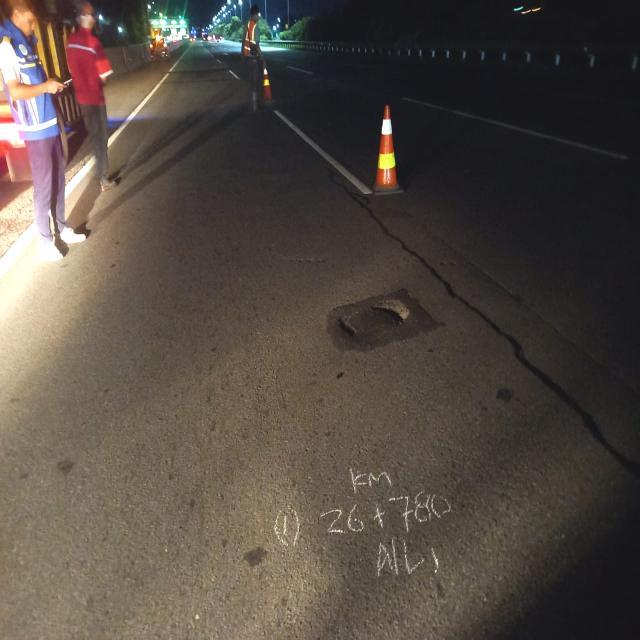Buraco: (368, 296, 413, 328), (160, 74, 234, 86), (159, 66, 235, 75), (335, 313, 360, 338)
